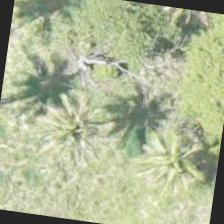Kelapa_Sawit: (24, 80, 126, 182), (122, 116, 222, 218), (0, 32, 77, 131)
